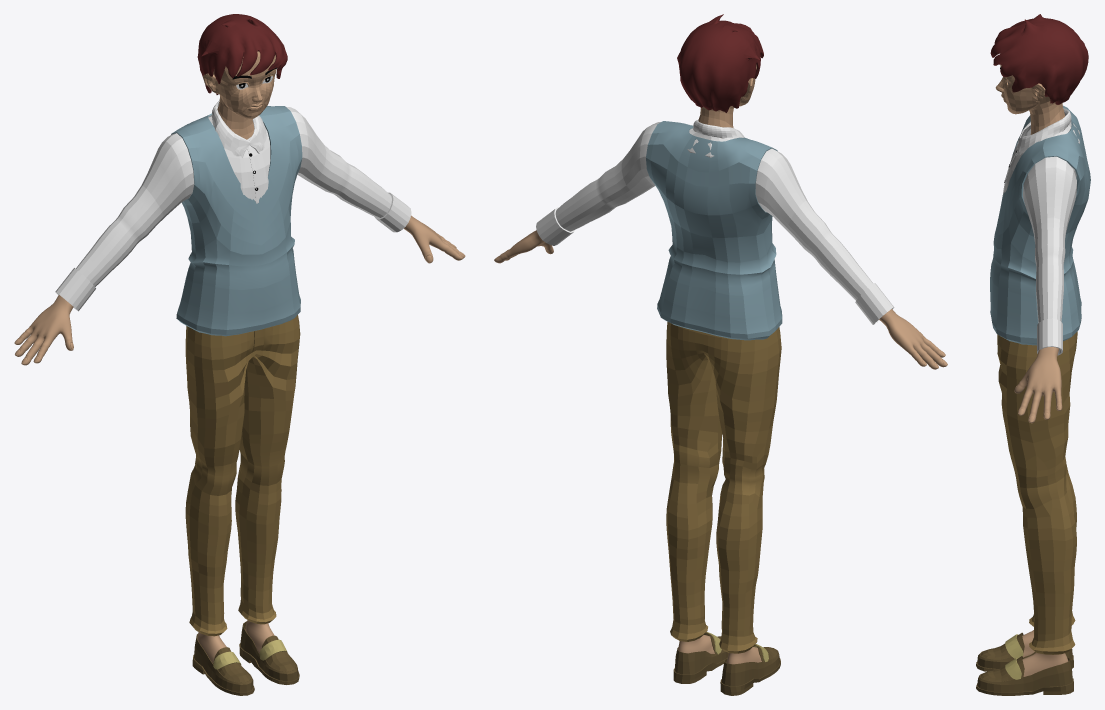
The picture shows the model from 3 angles, left to right: view 1: azimuth 30°, elevation 25°; view 2: azimuth 150°, elevation 25°; view 3: azimuth 270°, elevation 25°; orthographic projection.
Parts seen in each view (by area): view 1: ktnh:polySurface6, zz:polySurface9, zz:zz:polySurface10, polySurface5_1, polySurface5_2, Shou1, boy_f:polySurface1, ktnh:polySurface18, zz:polySurface18, zz:polySurface2, Shou; view 2: ktnh:polySurface6, zz:polySurface9, zz:zz:polySurface10, polySurface5_1, Shou1, ktnh:polySurface18, zz:polySurface18, polySurface5_2, Shou; view 3: ktnh:polySurface6, zz:polySurface9, zz:zz:polySurface10, polySurface5_1, zz:polySurface18, Shou, polySurface5_2, ktnh:polySurface7 (×2), ktnh:polySurface18, zz:polySurface2, boy_f:polySurface1, ktnh:polySurface19 (+1 smaller).
Part boxes in pixels (x1,y1,x2,y2): ktnh:polySurface6: (185, 315, 300, 636); zz:polySurface9: (171, 106, 302, 336); zz:zz:polySurface10: (55, 107, 411, 311); polySurface5_1: (197, 14, 287, 94); polySurface5_2: (203, 51, 276, 139); Shou1: (14, 295, 73, 365); boy_f:polySurface1: (191, 115, 270, 203); ktnh:polySurface18: (192, 634, 254, 695); zz:polySurface18: (239, 621, 299, 684); zz:polySurface2: (212, 100, 266, 157); Shou: (404, 215, 465, 263); ktnh:polySurface6: (666, 321, 781, 653); zz:polySurface9: (646, 121, 782, 340); zz:zz:polySurface10: (536, 122, 894, 324); polySurface5_1: (677, 14, 763, 112); Shou1: (879, 309, 947, 369); ktnh:polySurface18: (720, 645, 780, 695); zz:polySurface18: (673, 632, 728, 683); polySurface5_2: (695, 64, 756, 138); Shou: (494, 230, 553, 263); ktnh:polySurface6: (997, 331, 1077, 654); zz:polySurface9: (990, 105, 1090, 345); zz:zz:polySurface10: (1023, 156, 1076, 355); polySurface5_1: (990, 14, 1088, 104); zz:polySurface18: (976, 656, 1073, 695); Shou: (1014, 347, 1062, 423); polySurface5_2: (995, 65, 1065, 134); ktnh:polySurface7 (×2): (1022, 630, 1068, 676); ktnh:polySurface18: (976, 632, 1073, 671); zz:polySurface2: (1016, 108, 1071, 155); boy_f:polySurface1: (1003, 121, 1079, 195); ktnh:polySurface19: (1005, 634, 1023, 658).
Size of the model in its own units: 39.36 by 55.34 by 8.73.
